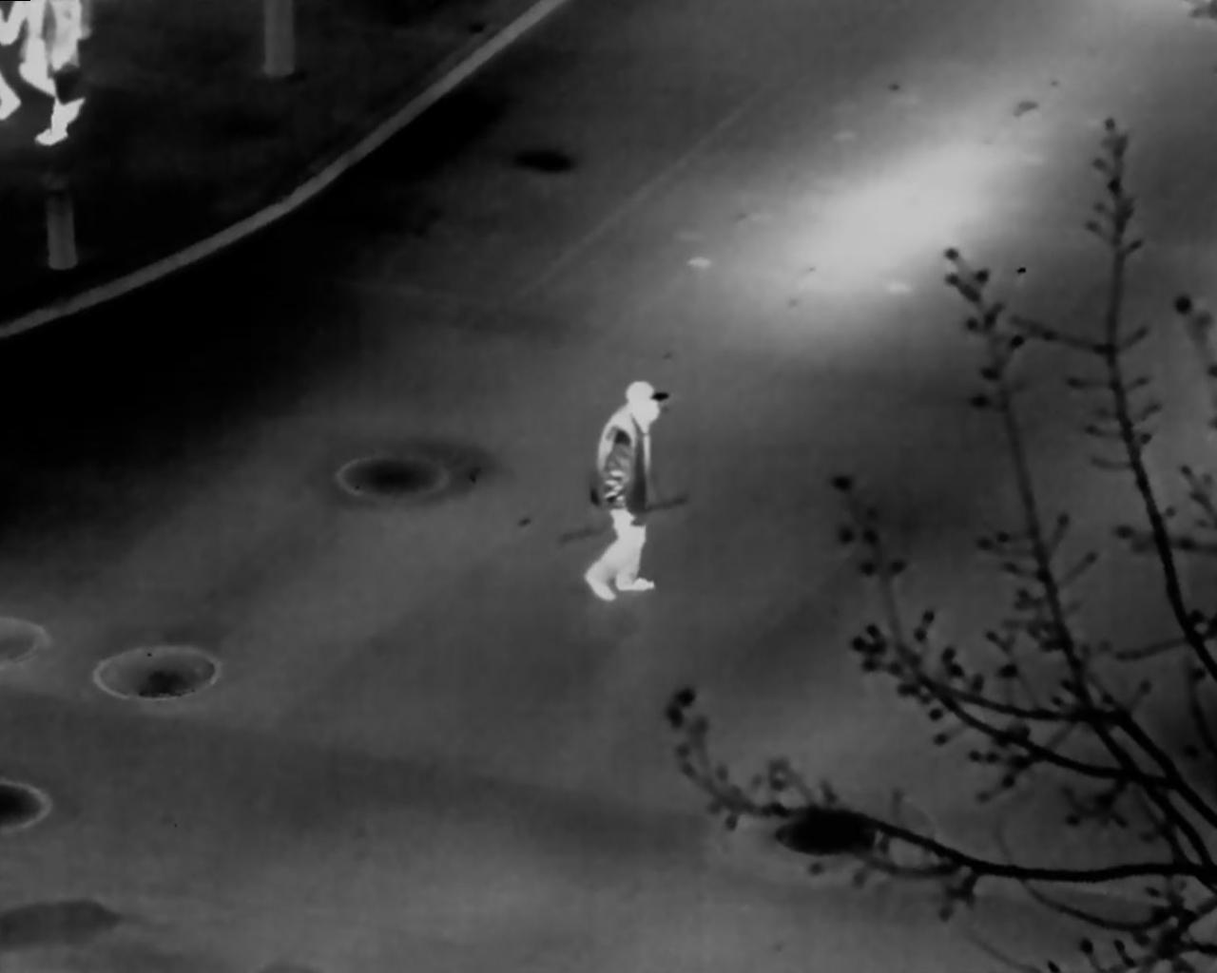person: (582, 380, 669, 601)
